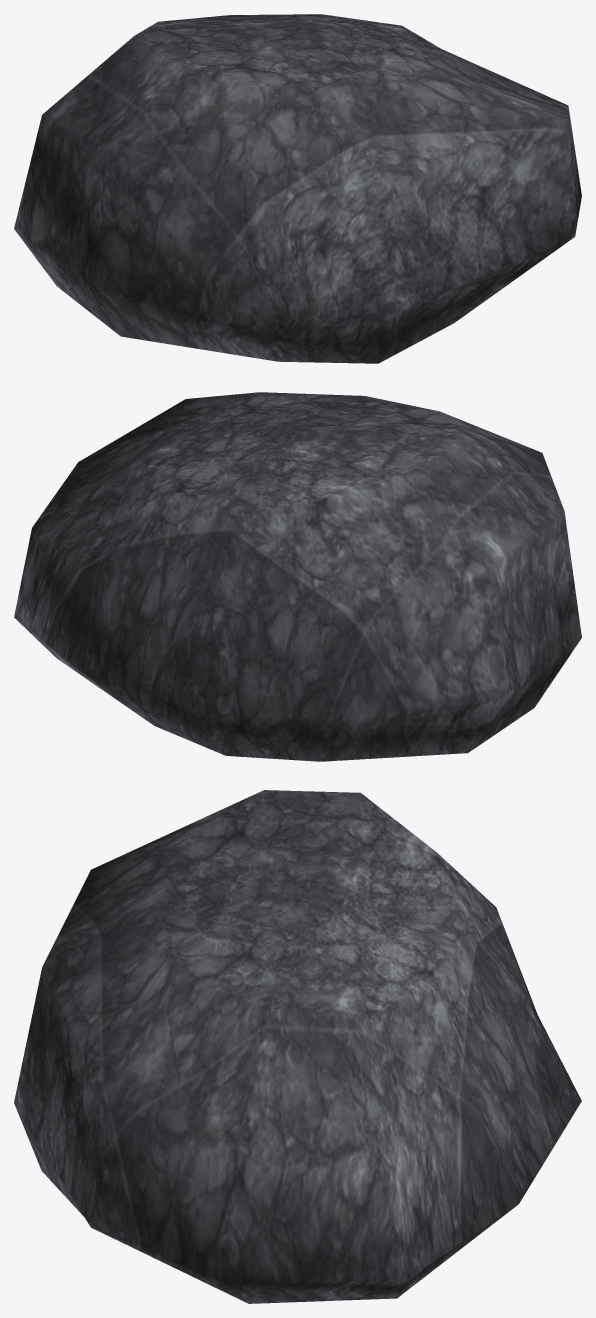
File: shitou.FBX
3 views of the same model, one above another, from view 1: azimuth 30°, elevation 25°; view 2: azimuth 150°, elevation 25°; view 3: azimuth 270°, elevation 25° (orthographic). The views are drawn at different scales.
Visible parts, largest first — view 1: Sphere001; view 2: Sphere001; view 3: Sphere001.
Boxes of the visible parts, box(x1,y1,x2,y2) form: Sphere001: box(14, 14, 581, 363); Sphere001: box(14, 392, 581, 761); Sphere001: box(14, 790, 581, 1303).
Size of the model in its own units: 119 by 61.91 by 98.29.
Materials: 1 (1 with a texture image).
